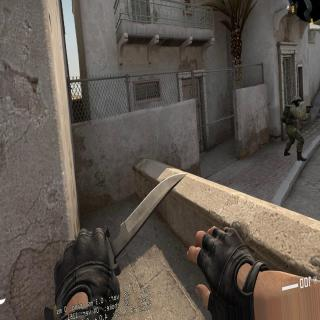CT-Body: (278, 92, 312, 160)
CT-Head: (291, 93, 302, 107)
